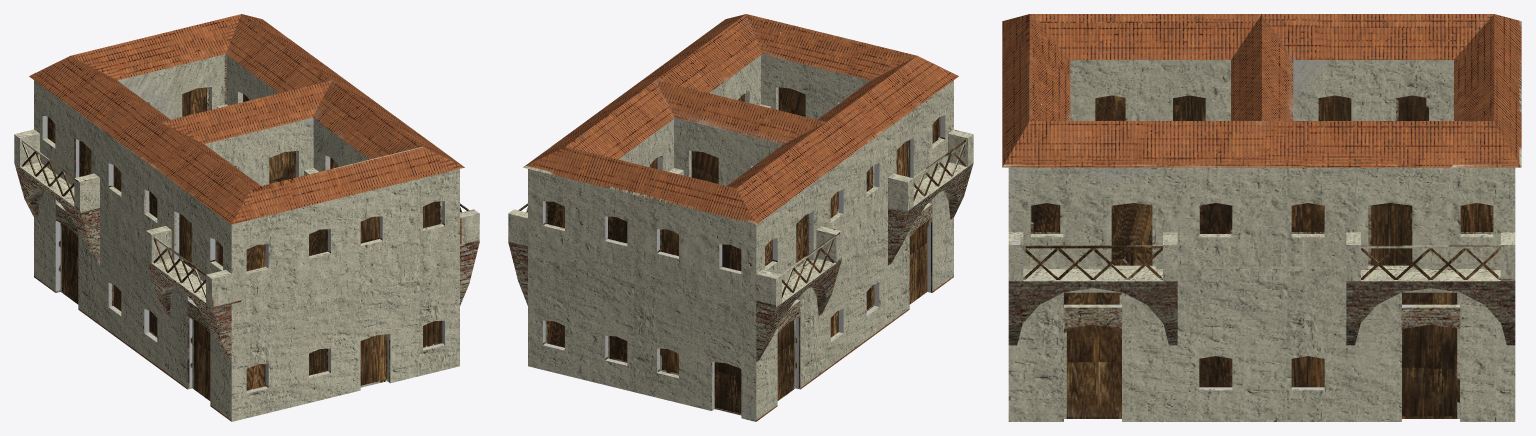
The model's file is Low_Poly_Roman_Insula_1_WIP.glb.
3 views of the same model, side by side, from view 1: azimuth 30°, elevation 25°; view 2: azimuth 150°, elevation 25°; view 3: azimuth 270°, elevation 25° (orthographic). The views are drawn at different scales.
Parts seen in each view (by area): view 1: unnamed; view 2: unnamed; view 3: unnamed.
Boxes of the visible parts, box(x1,y1,x2,y2) form: unnamed: box(14, 14, 479, 421); unnamed: box(508, 14, 973, 421); unnamed: box(1002, 14, 1521, 421).
Bounding box in the file's own units: 0.675 × 0.5312 × 0.8841.
1 material, 1 textured.
